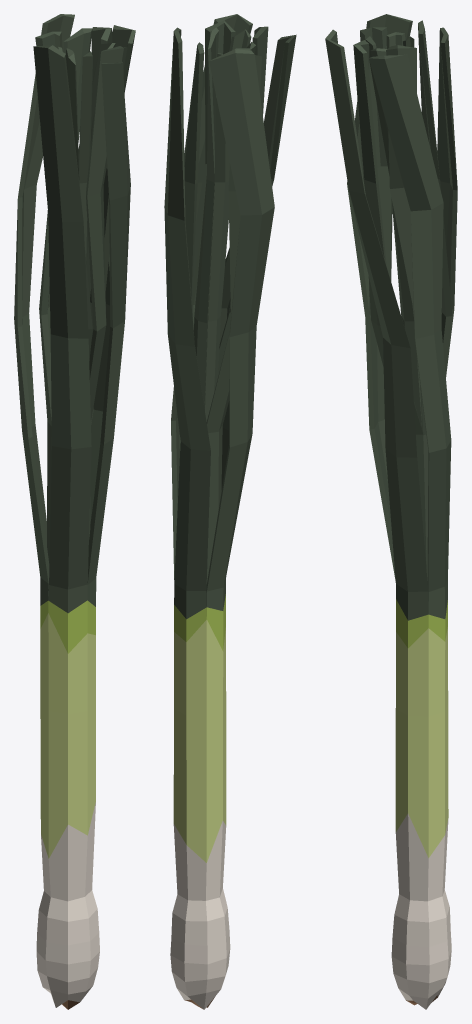
File: APIO.fbx
3 views of the same model, side by side, from view 1: azimuth 90°, elevation 25°; view 2: azimuth 150°, elevation 25°; view 3: azimuth 330°, elevation 25° (orthographic).
Parts seen in each view (by area): view 1: Cylinder; view 2: Cylinder; view 3: Cylinder.
Boxes of the visible parts, box(x1,y1,x2,y2) form: Cylinder: box(14, 14, 135, 1009); Cylinder: box(164, 14, 296, 1009); Cylinder: box(325, 14, 457, 1009).
Bounding box in the file's own units: 57.14 × 486 × 54.63.
